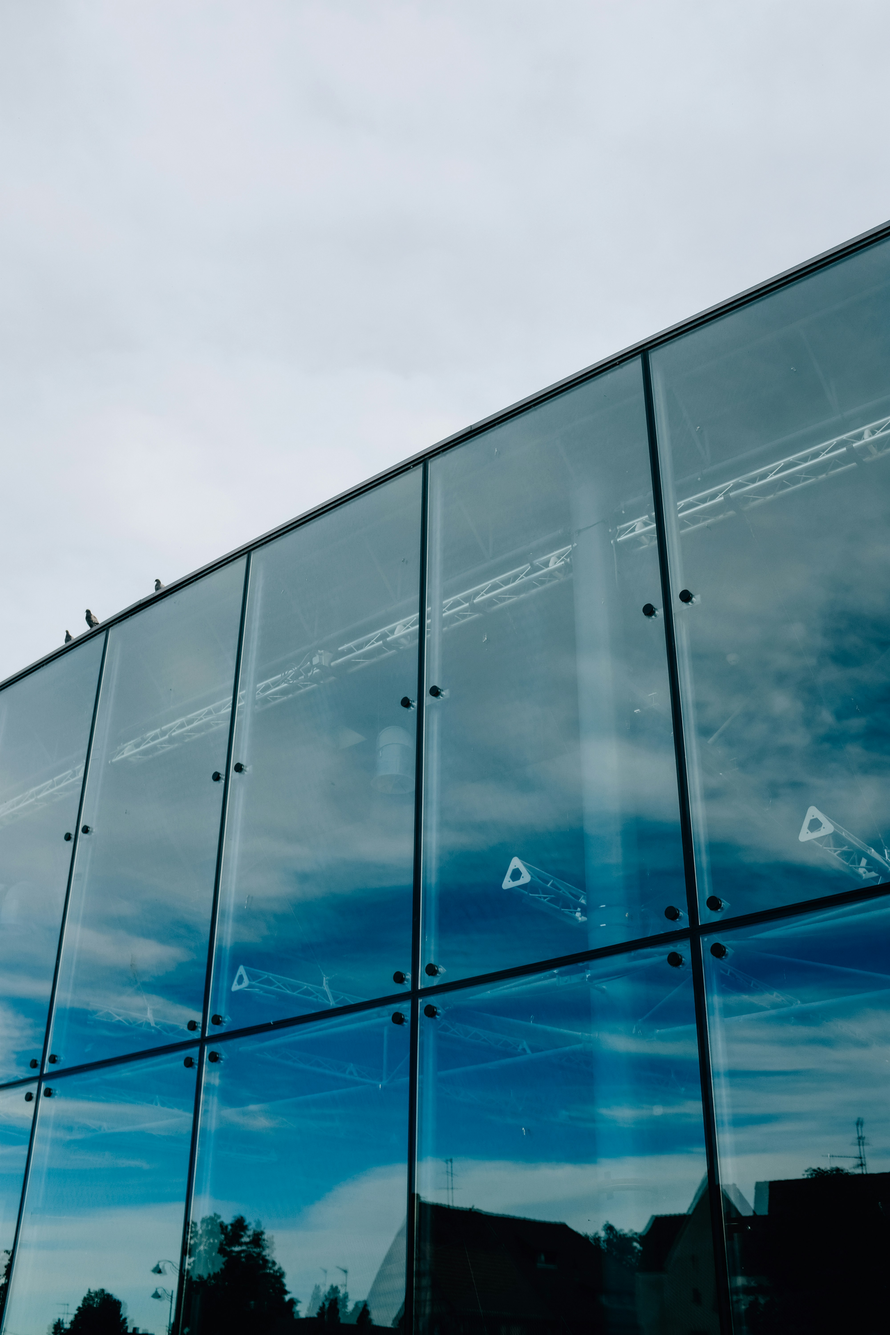glass_panel: (423, 362, 684, 977), (653, 243, 890, 920), (415, 949, 718, 1335), (213, 469, 421, 1026), (50, 561, 244, 1066), (706, 901, 890, 1335), (183, 1010, 409, 1335), (4, 1052, 196, 1335), (0, 637, 102, 1081), (0, 1085, 36, 1319)
